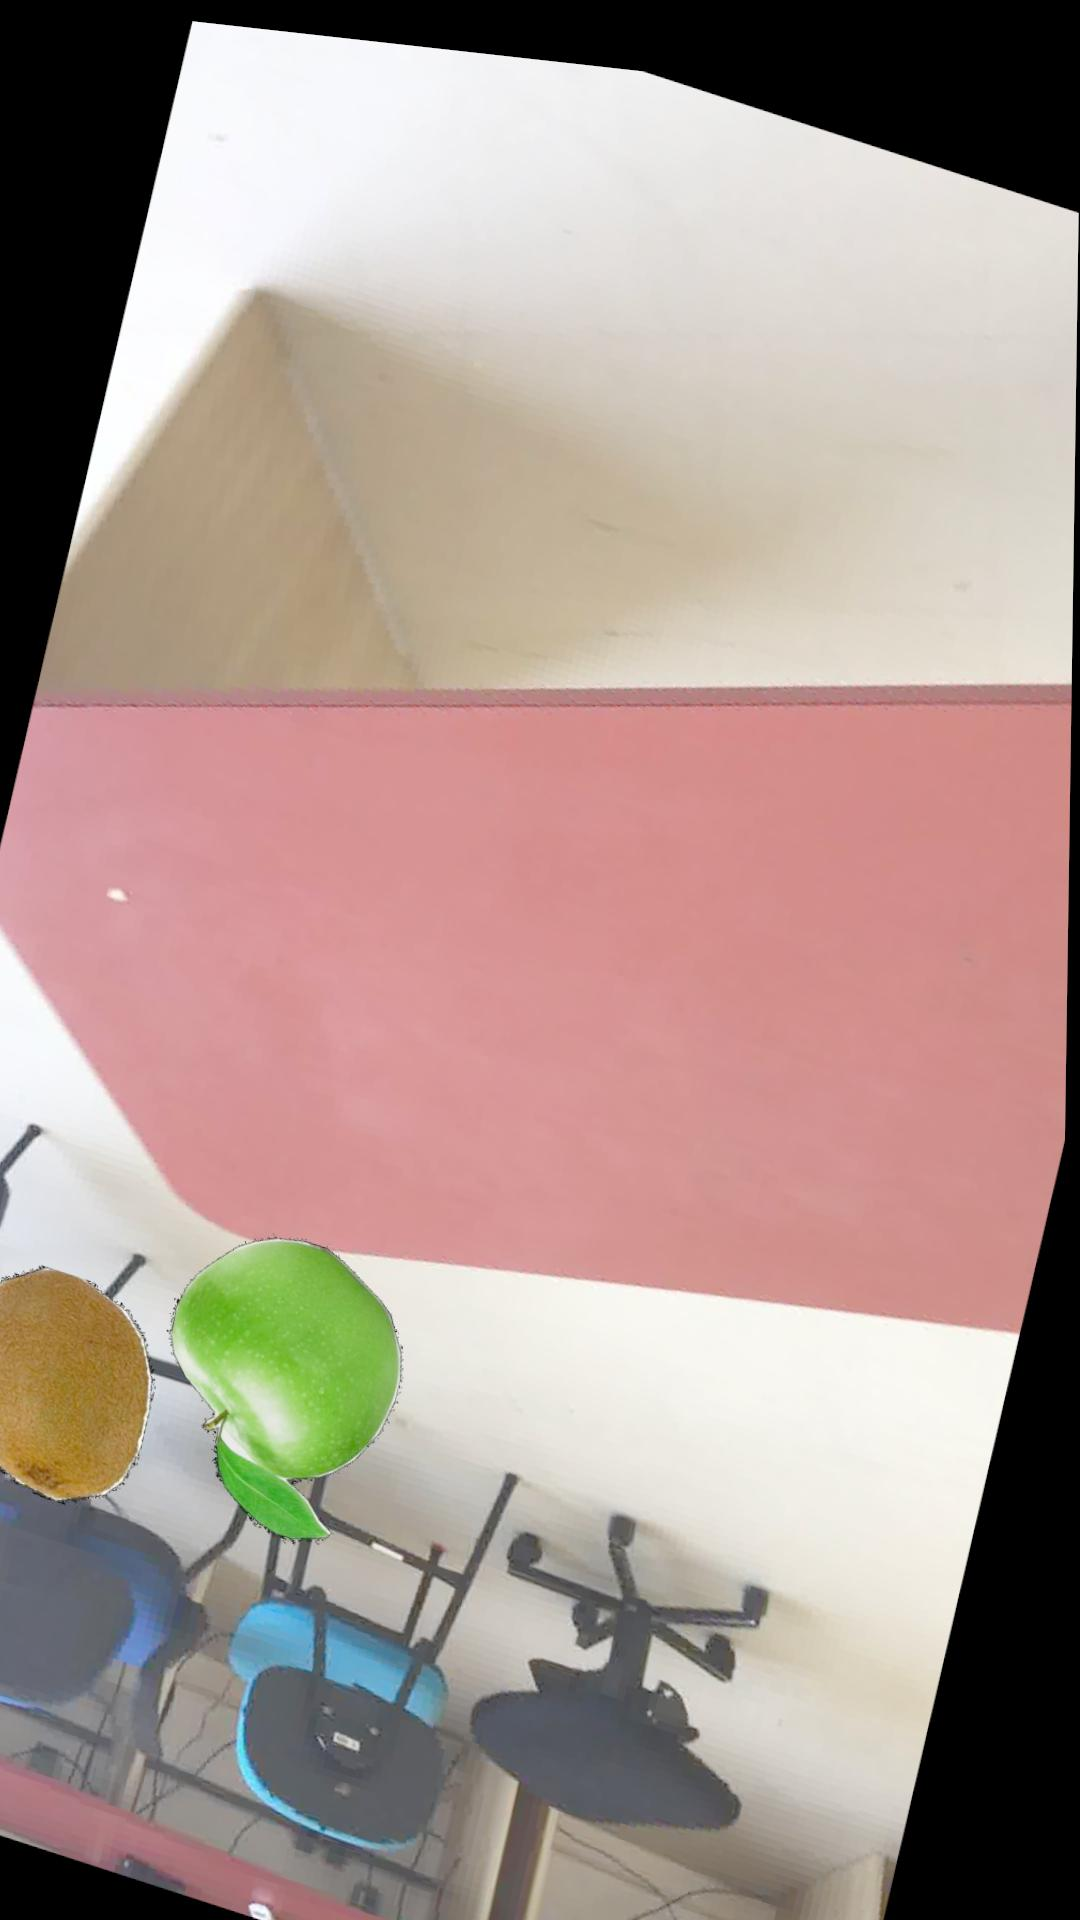green apple: (174, 1232, 407, 1539)
kiwi: (0, 1266, 160, 1505)
